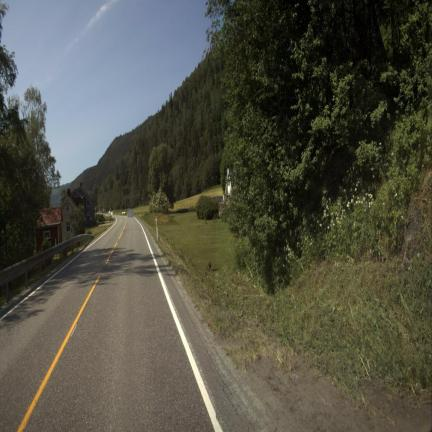Road: (0, 217, 241, 430)
